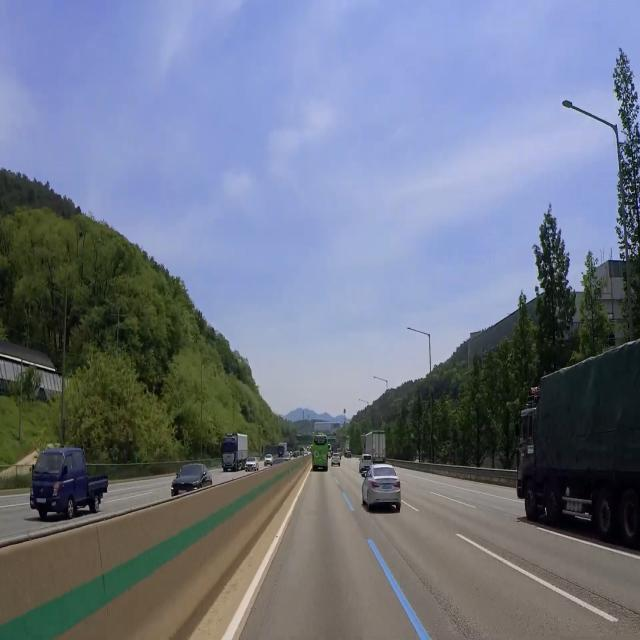car: (379, 480, 395, 495), (36, 492, 48, 510)
